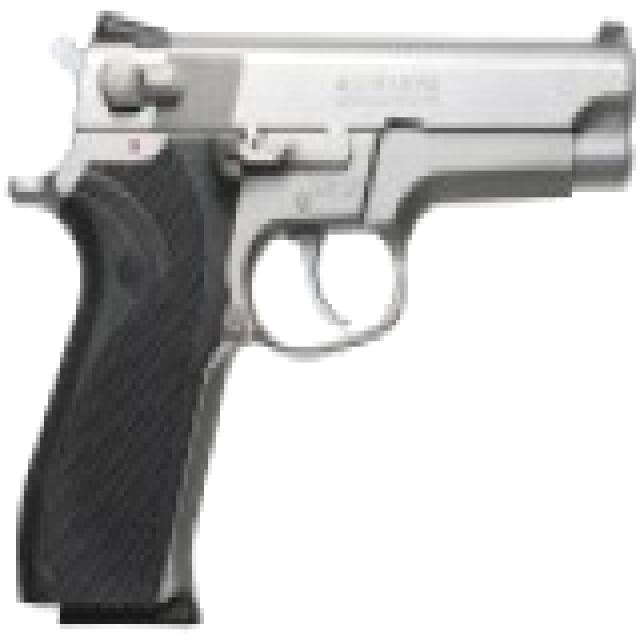pistol: (16, 6, 628, 614)
